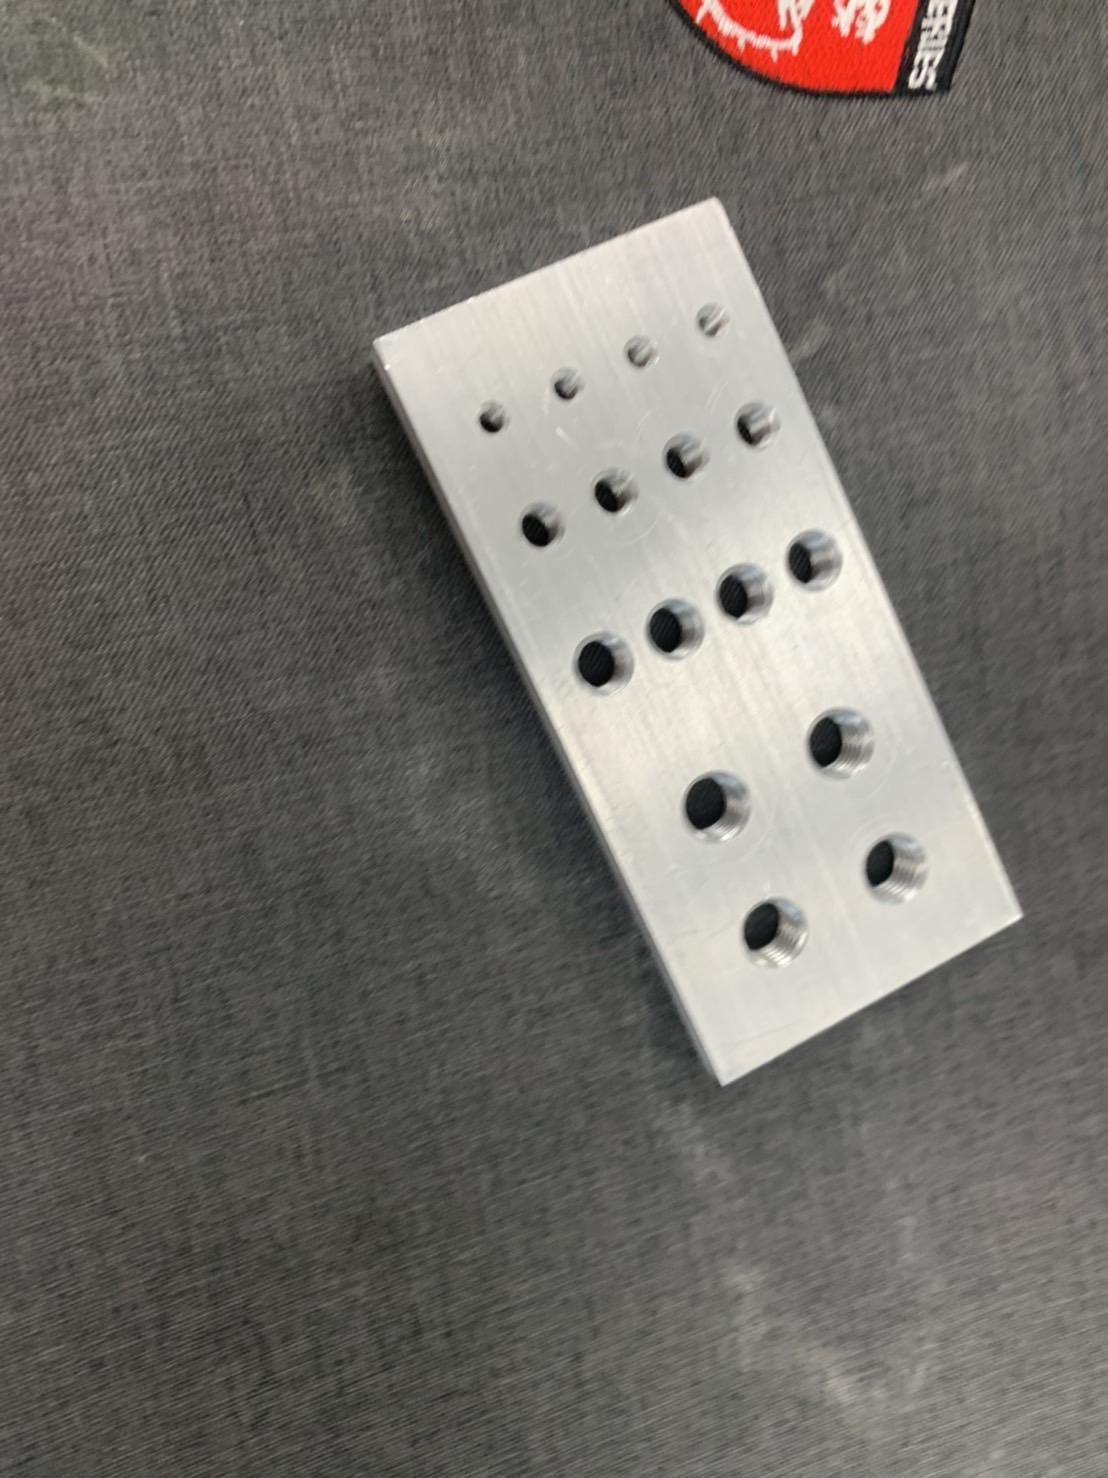hole: (800, 698, 887, 788), (675, 769, 757, 847), (858, 825, 932, 910), (736, 896, 814, 976), (570, 620, 639, 702), (708, 559, 775, 631), (780, 524, 845, 595), (640, 596, 706, 665), (724, 398, 786, 452), (588, 468, 644, 523), (662, 431, 712, 488), (510, 503, 569, 550), (620, 331, 666, 375), (473, 402, 514, 440), (551, 364, 584, 408), (697, 300, 729, 344)
